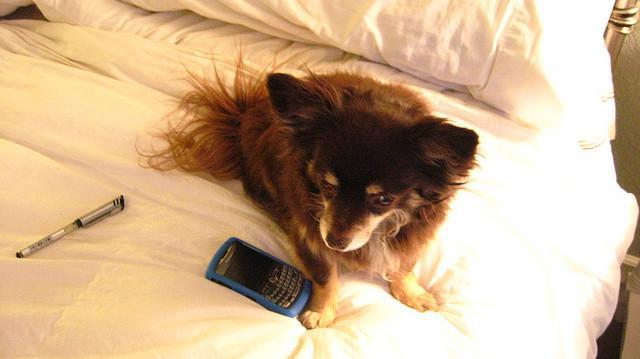phone: (197, 232, 317, 327)
